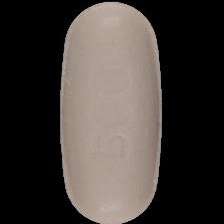63874-326: (0, 0, 224, 224)
